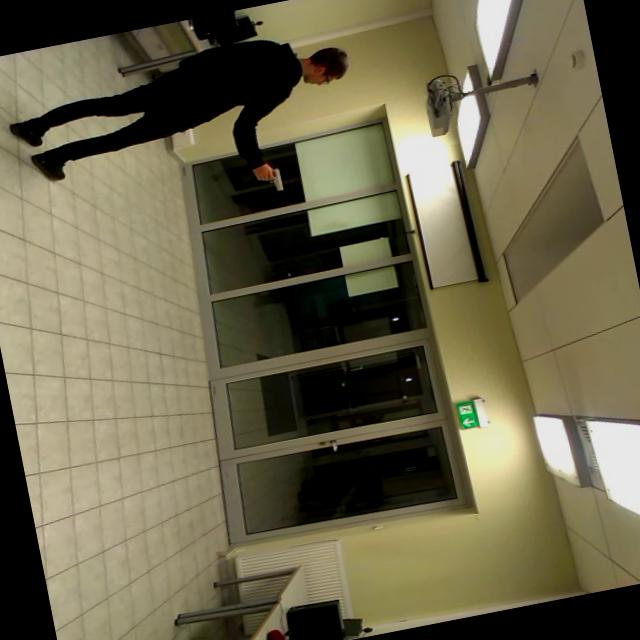handgun: (252, 164, 291, 201)
